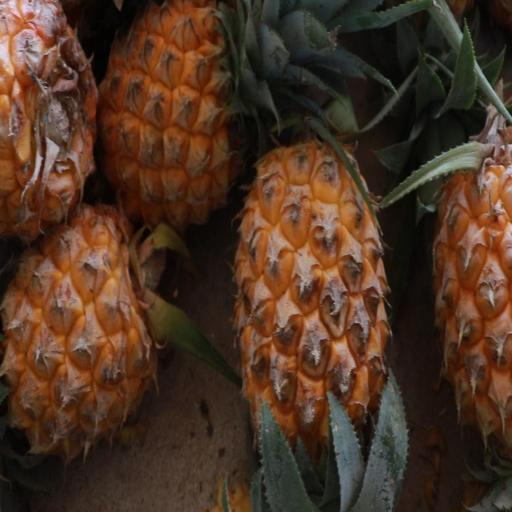Pineapple - v8 v1: (224, 129, 403, 512), (0, 197, 188, 470), (90, 0, 272, 241), (428, 96, 512, 457), (0, 0, 103, 242)
